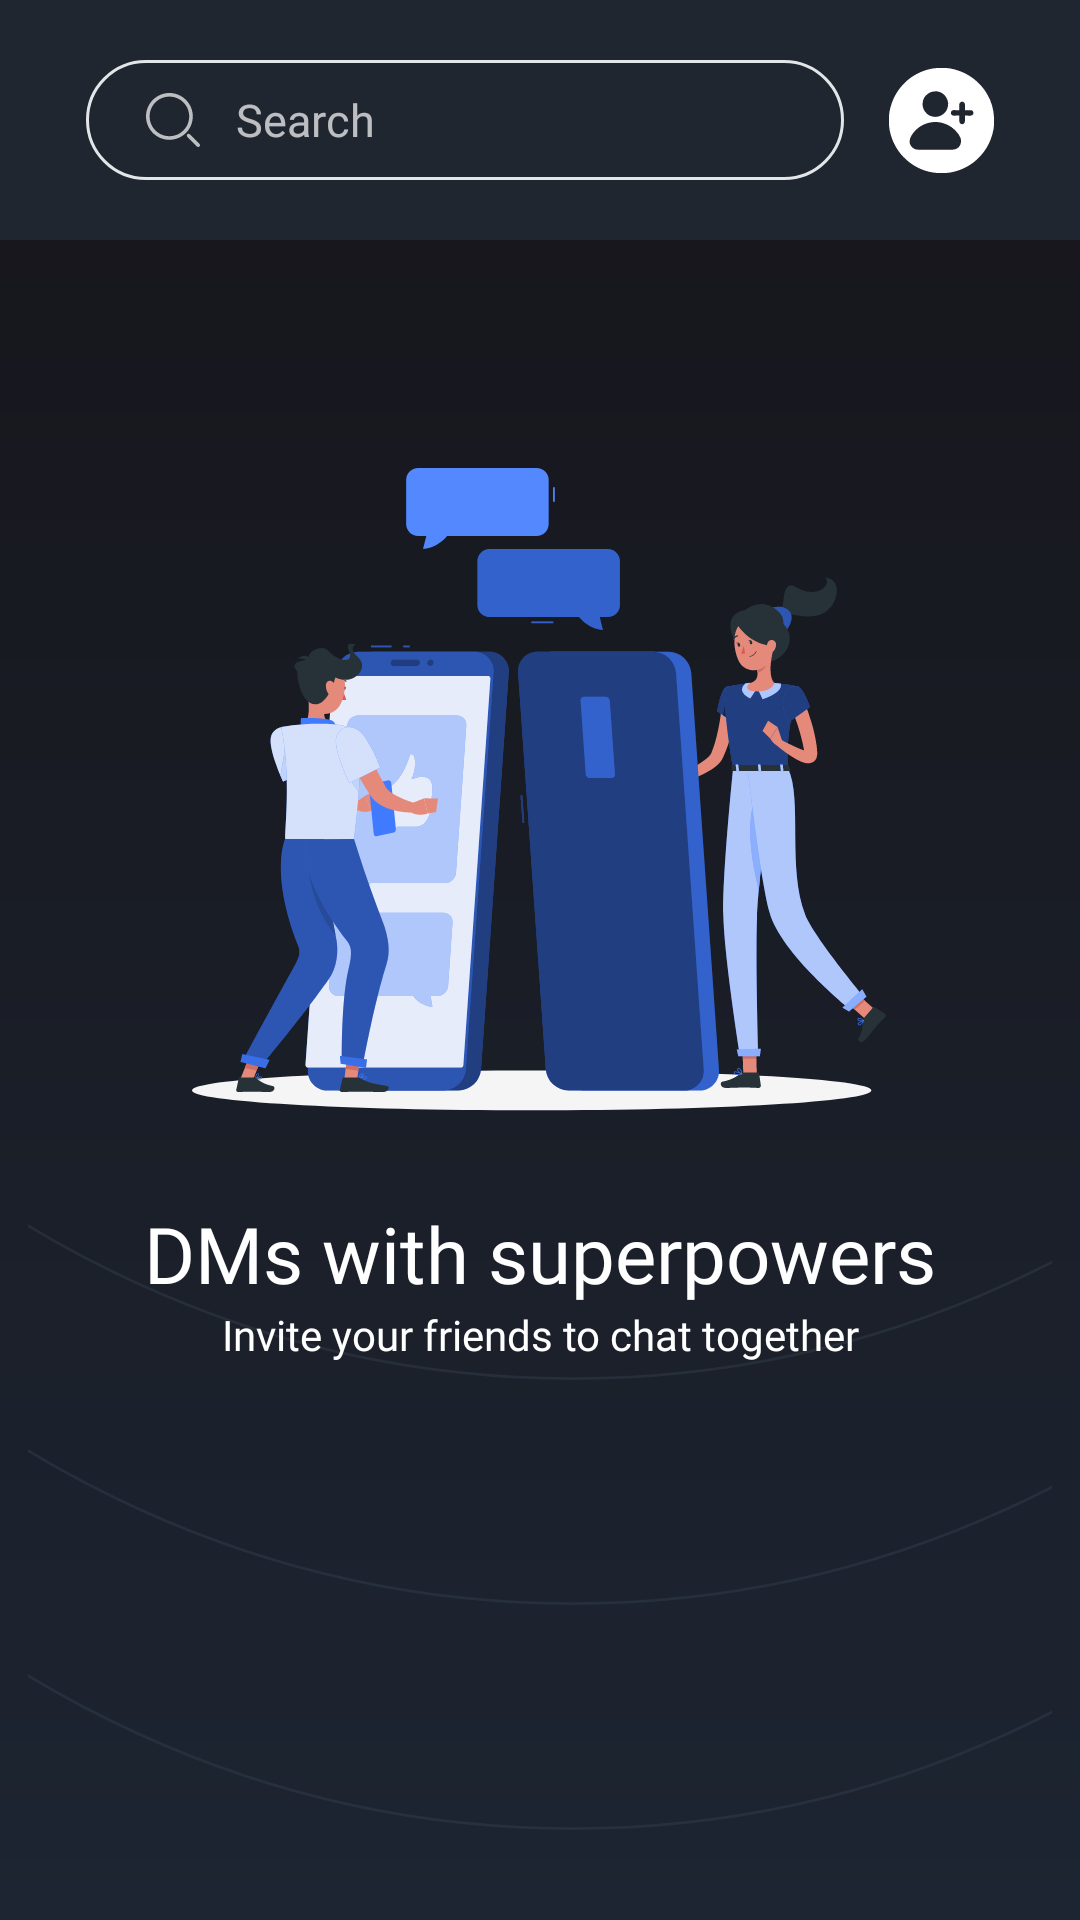

Screen size 1080×1920. Icon name, then its box in pixels as (x1, y1, x2, y2):
Add friend: (889, 68, 994, 173)
